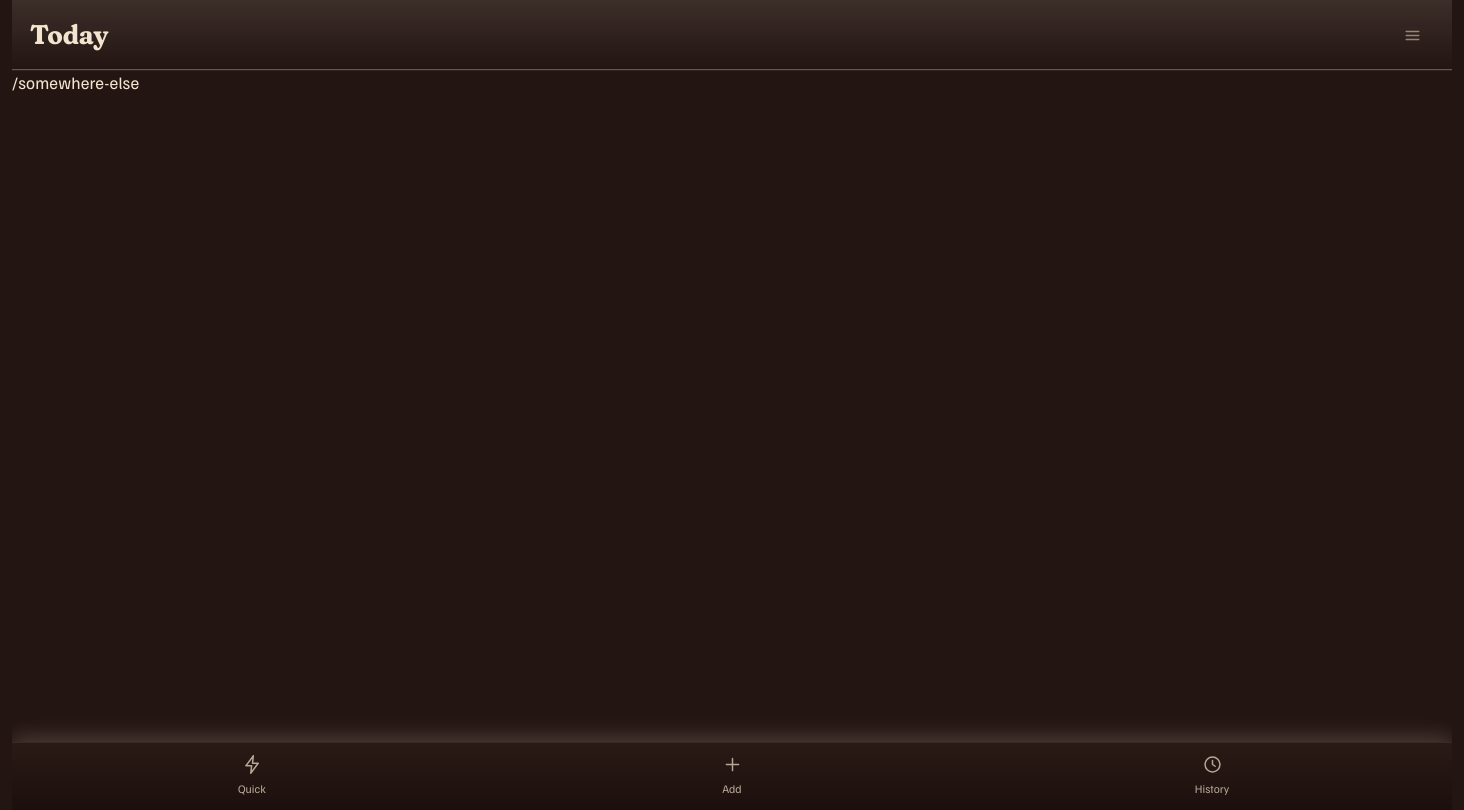
it: AppFrame › bottom navigation › navigates to History at /history when tapped
Click the button "History" at coordinates (1212, 776), box [972,743,1452,809]
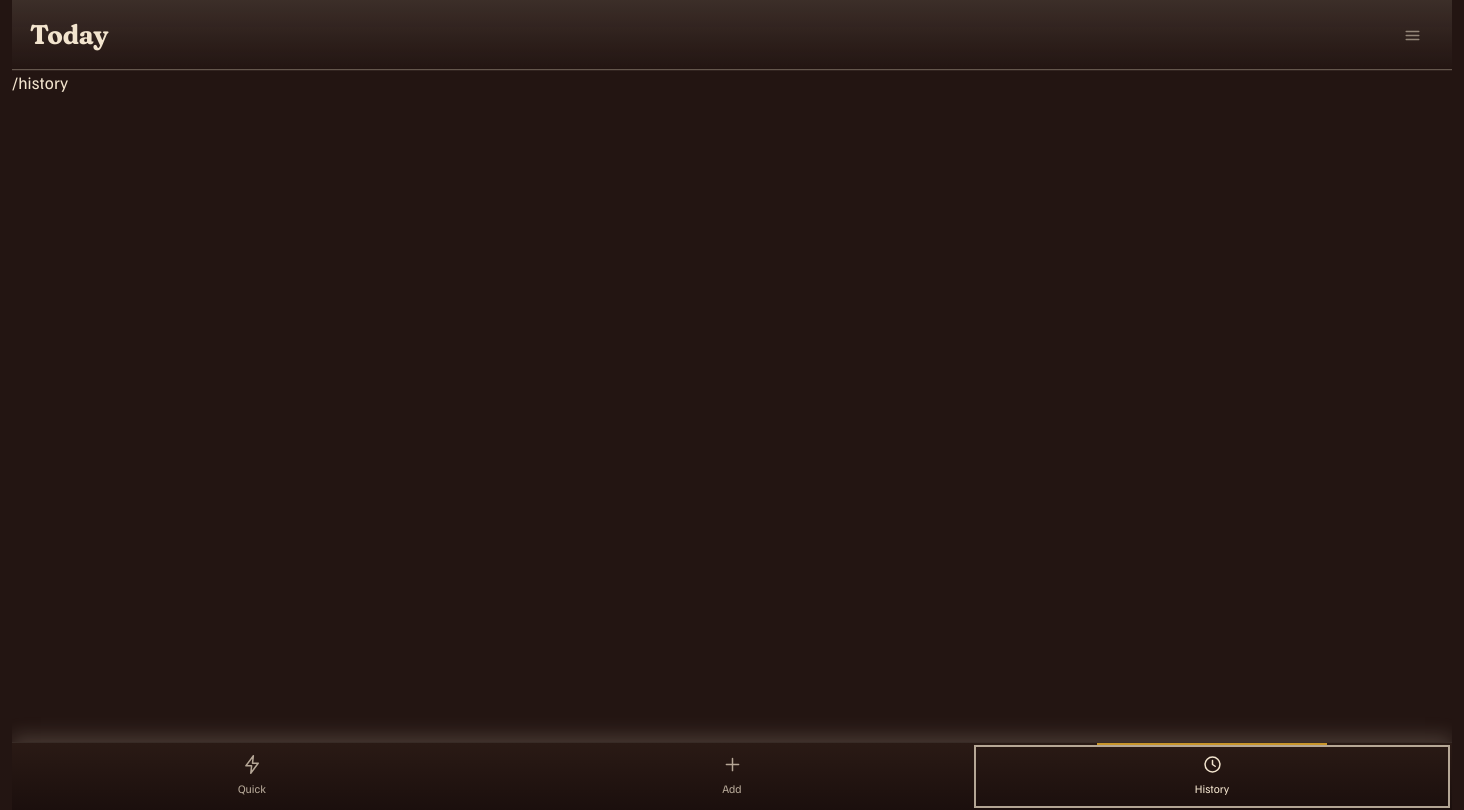
Check: the text with test id "pathname" reads "/history", box [12,71,68,93]
